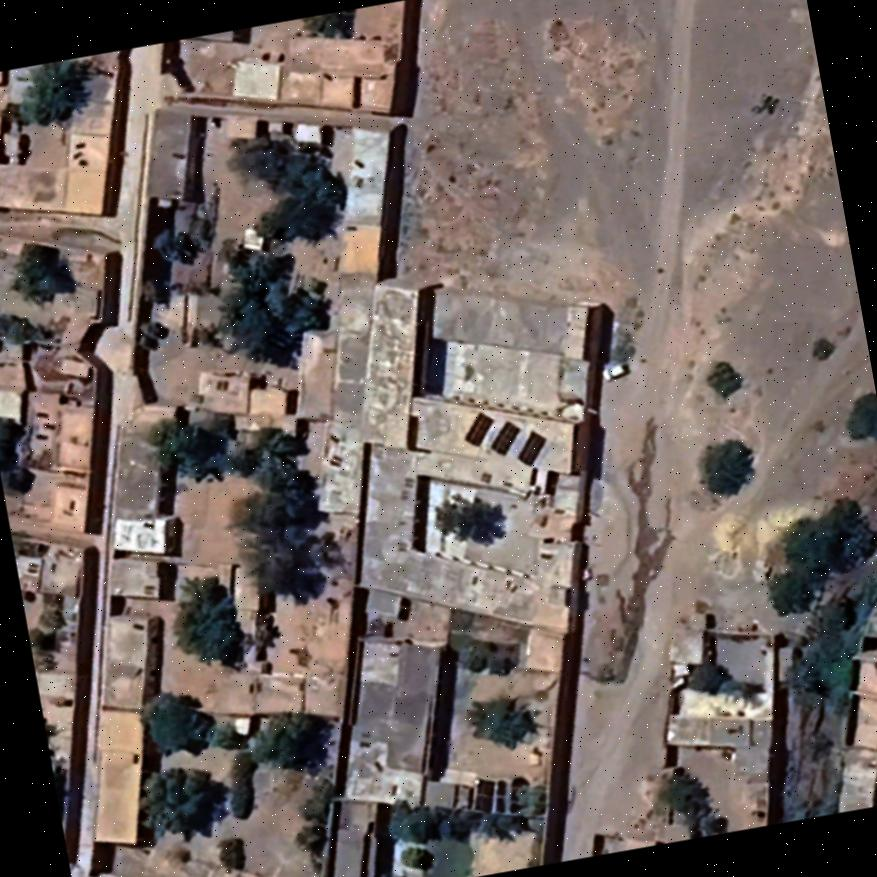Solarpanel: (511, 425, 552, 475), (485, 415, 524, 465), (460, 405, 497, 455)
